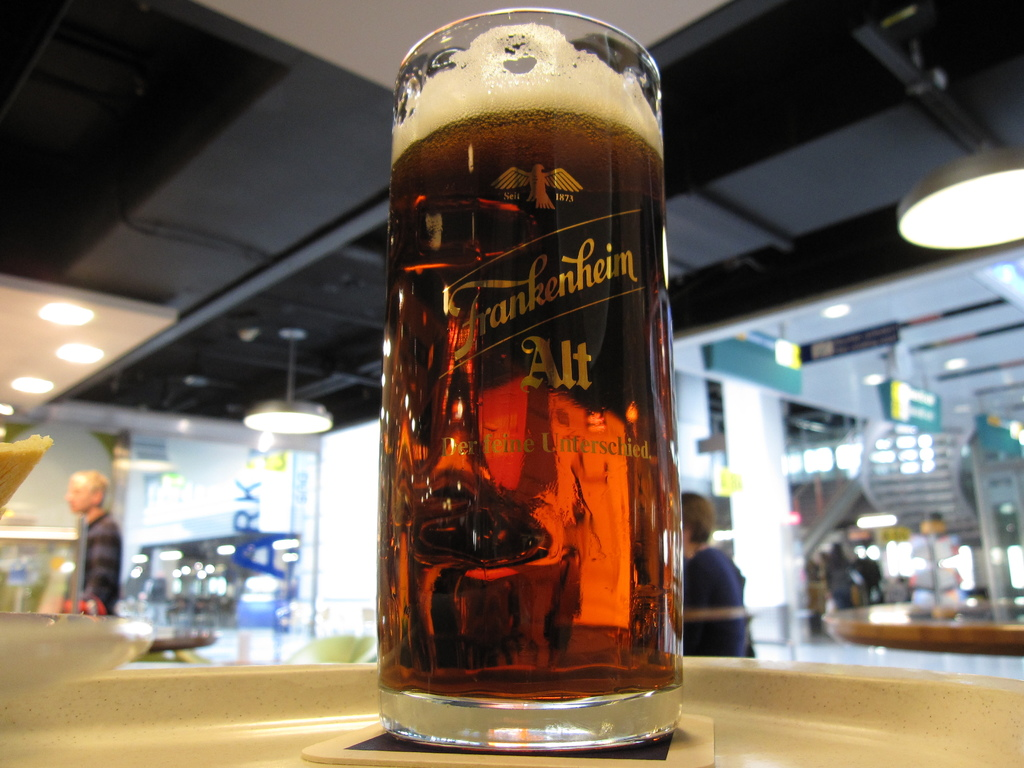Beer: (379, 21, 682, 705)
